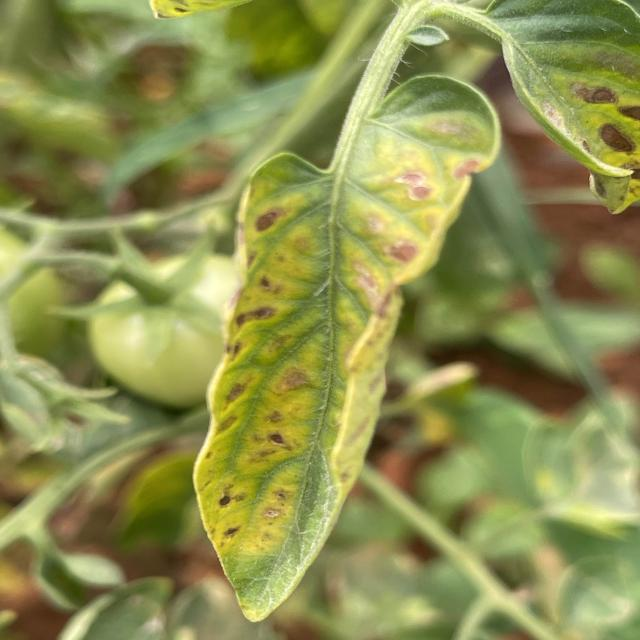tomato_early blight: (195, 73, 500, 621), (434, 0, 640, 213)
